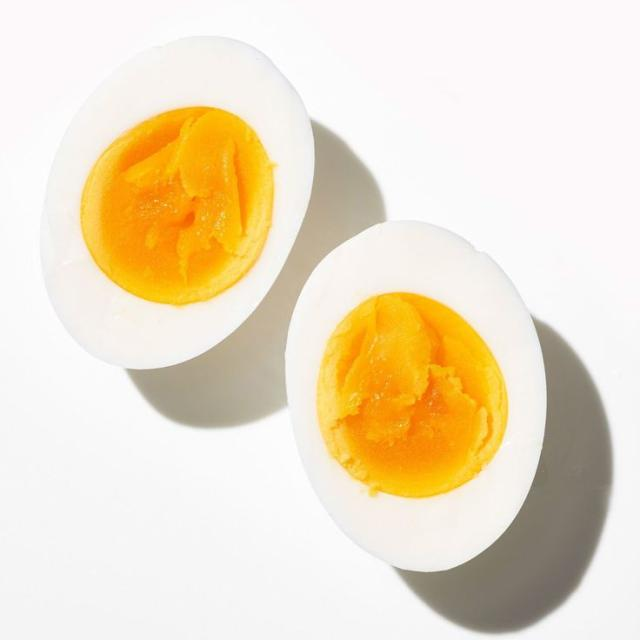egg boiled: (286, 221, 545, 571), (41, 37, 313, 368)
